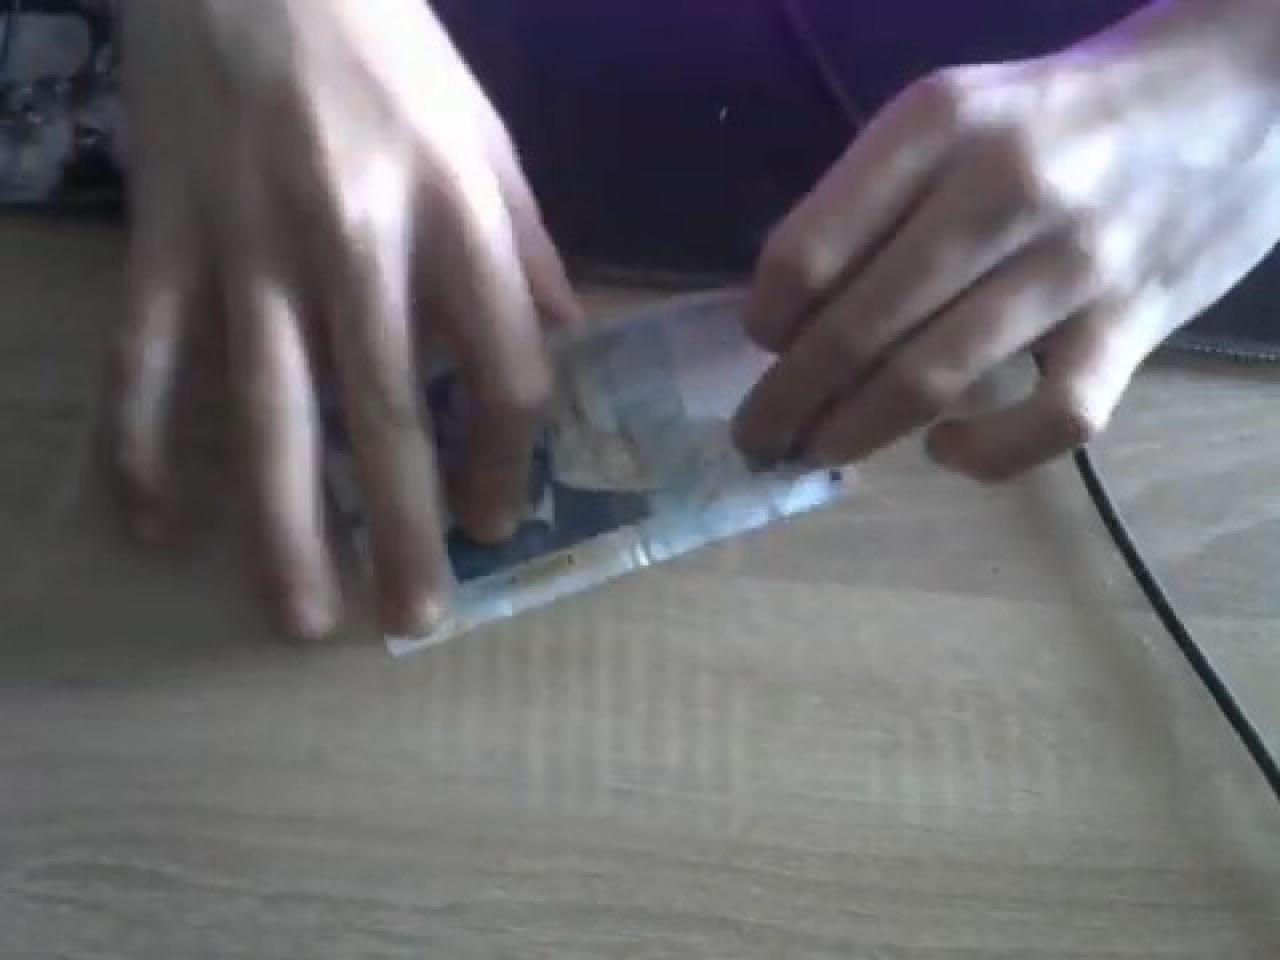20leva: (499, 288, 829, 595)
